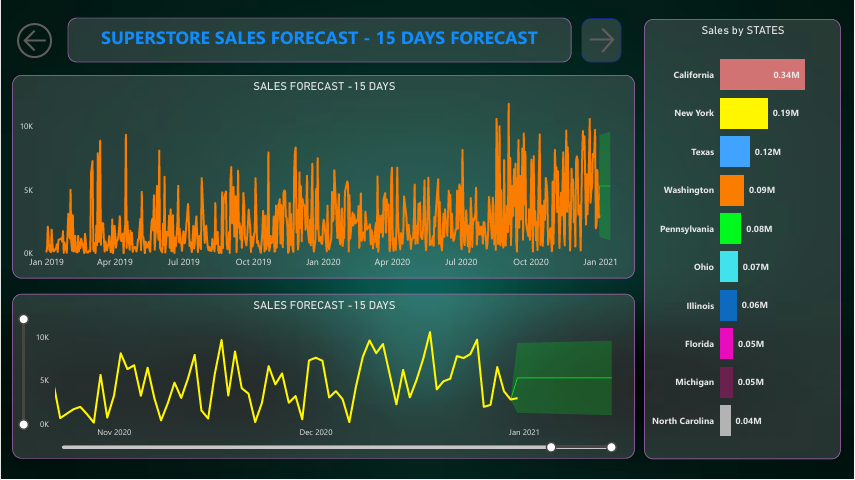

This screenshot's page, from the dashboard's own definition file:
{"tool":"powerbi","page":{"name":"FORECAST","canvas":[1280,720],"ordinal":3},"visuals":[{"type":"lineChart","title":"SALES FORECAST -15 DAYS","fields":{"Y":["Sum(SuperStore_Sales_Dataset.Sales)"],"Category":["SuperStore_Sales_Dataset.Order Date"]},"box":[17.4,114.8,934.2,305.1],"z":0},{"type":"textbox","box":[100,28.6,755.7,67.1],"z":1000},{"type":"lineChart","title":"SALES FORECAST -15 DAYS","fields":{"Y":["Sum(SuperStore_Sales_Dataset.Sales)"],"Category":["SuperStore_Sales_Dataset.Order Date"]},"box":[17.4,443.1,934.2,247],"z":2000},{"type":"clusteredBarChart","title":"Sales by STATES","fields":{"Category":["SuperStore_Sales_Dataset.State"],"Y":["Sum(SuperStore_Sales_Dataset.Sales)"]},"box":[964.7,30.5,294.9,659.6],"z":3000},{"type":"actionButton","box":[16.7,30,83.3,66.7],"z":4000},{"type":"actionButton","box":[871.4,30,60,65.7],"z":5000}]}

Visuals, with their boxes in screenshot pixels (x1, y1, x2, y2), scaled from the page's 1280x720 canvas onto the 855x480 screenshot:
"SALES FORECAST -15 DAYS" lineChart: bbox(12, 77, 636, 280)
textbox: bbox(67, 19, 572, 64)
"SALES FORECAST -15 DAYS" lineChart: bbox(12, 295, 636, 460)
"Sales by STATES" clusteredBarChart: bbox(644, 20, 841, 460)
actionButton: bbox(11, 20, 67, 64)
actionButton: bbox(582, 20, 622, 64)
